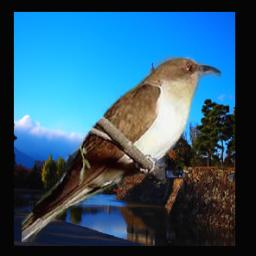Cuckoo: (22, 54, 222, 242)
